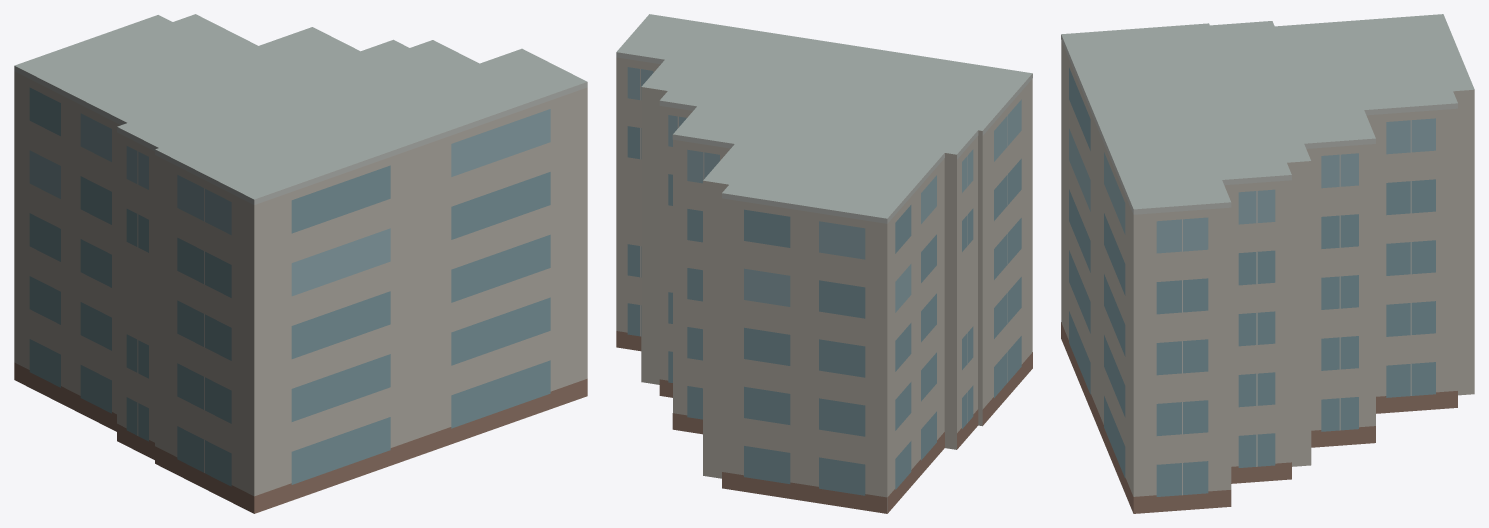
File: survey-upis-32871506.glb
3 renders of one model, left to right at view 1: azimuth 30°, elevation 25°; view 2: azimuth 150°, elevation 25°; view 3: azimuth 270°, elevation 25°, orthographic. The views are drawn at different scales.
Visible parts, largest first — view 1: survey-upis-32871506.tmp; view 2: survey-upis-32871506.tmp; view 3: survey-upis-32871506.tmp.
Boxes of the visible parts, left/top/right/bottom form: survey-upis-32871506.tmp: left=14, top=14, right=587, bottom=513; survey-upis-32871506.tmp: left=616, top=14, right=1032, bottom=513; survey-upis-32871506.tmp: left=1061, top=14, right=1474, bottom=513.
Bounding box in the file's own units: 19 × 13.8 × 17.
